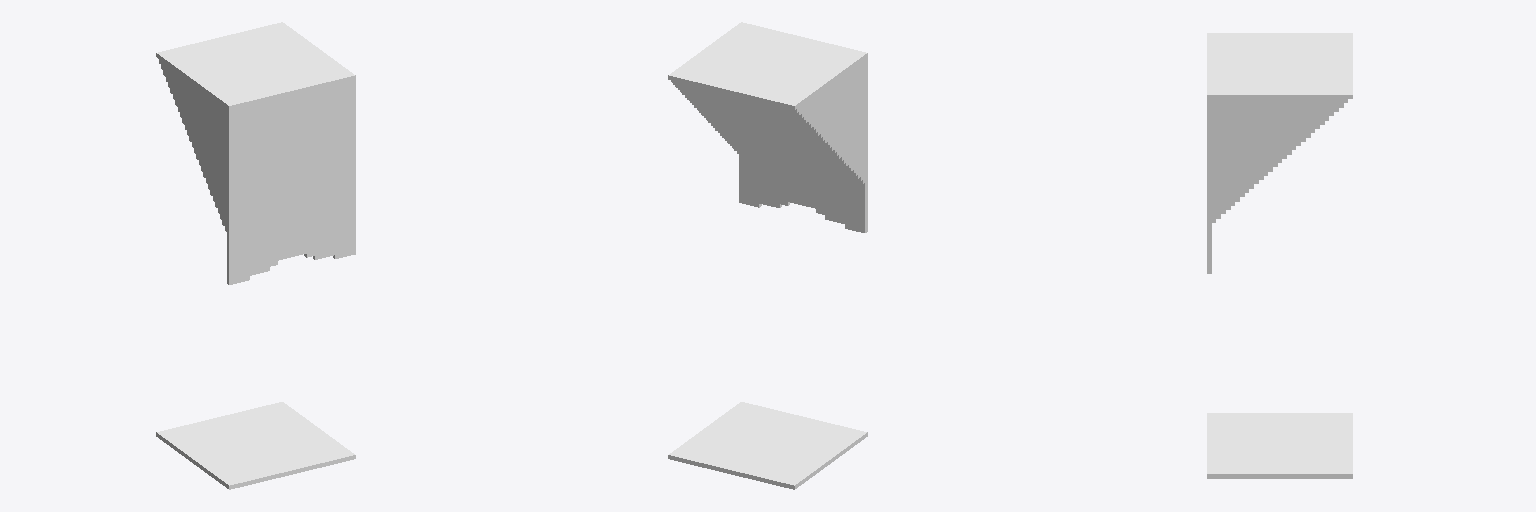
File: DoorUp.obj
3 renders of one model, left to right at view 1: azimuth 30°, elevation 25°; view 2: azimuth 150°, elevation 25°; view 3: azimuth 270°, elevation 25°, orthographic.
Visible parts, largest first — view 1: object 1; view 2: object 1; view 3: object 1.
Boxes of the visible parts, x1=… form: object 1: x1=156, y1=22, x2=355, y2=489; object 1: x1=668, y1=22, x2=867, y2=489; object 1: x1=1207, y1=33, x2=1352, y2=478.
Size of the model in its own units: 3.1 by 9 by 3.1.